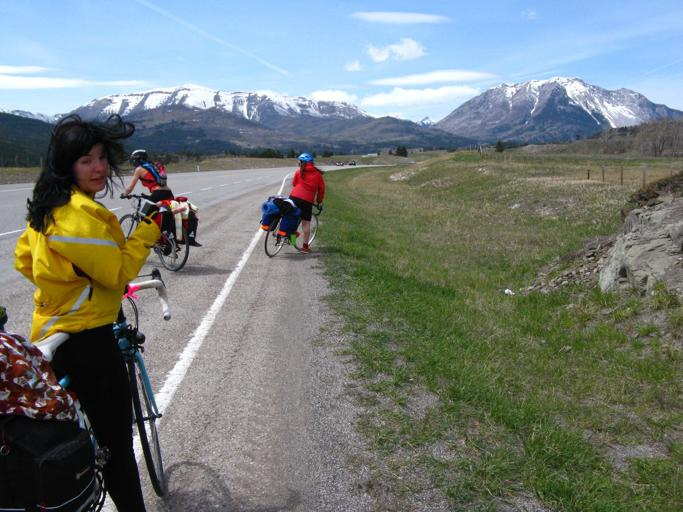non-vehicle: (29, 263, 173, 512), (115, 193, 190, 272), (263, 203, 323, 258)
